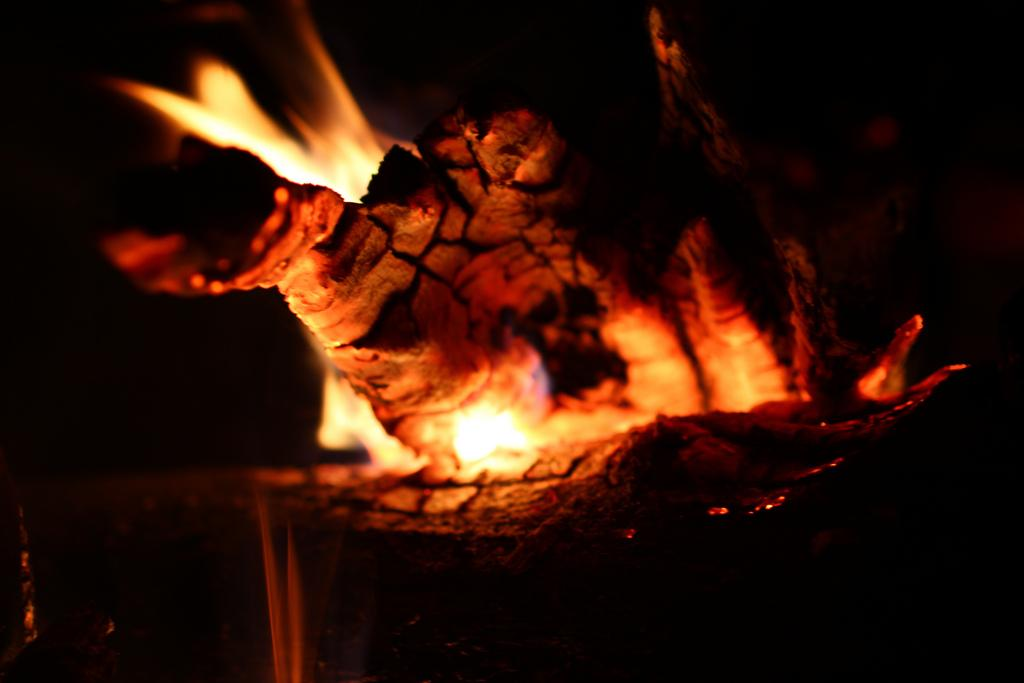fire: (435, 397, 562, 475), (273, 125, 380, 193)
